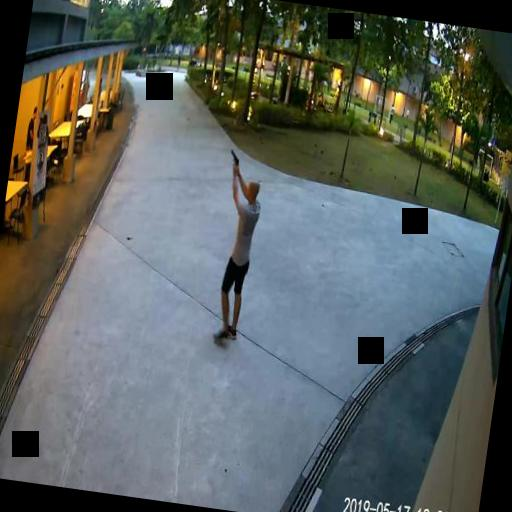Handgun: (226, 146, 240, 174)
